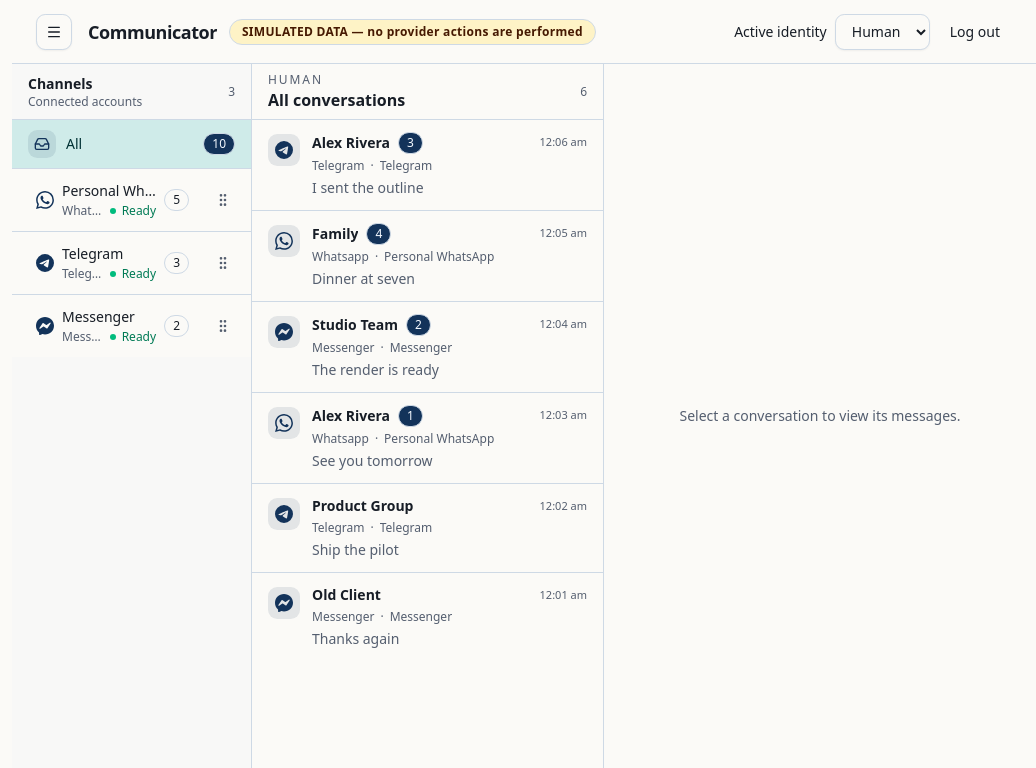
Test: ConversationsShell › closes the old subscription and reconnects after an identity switch
Expected: the heading "All conversations" is shown, [268, 88, 405, 112]
Select "Agent" in the dropdown labelled "Active identity" at point(882, 32), box [835, 14, 930, 50]
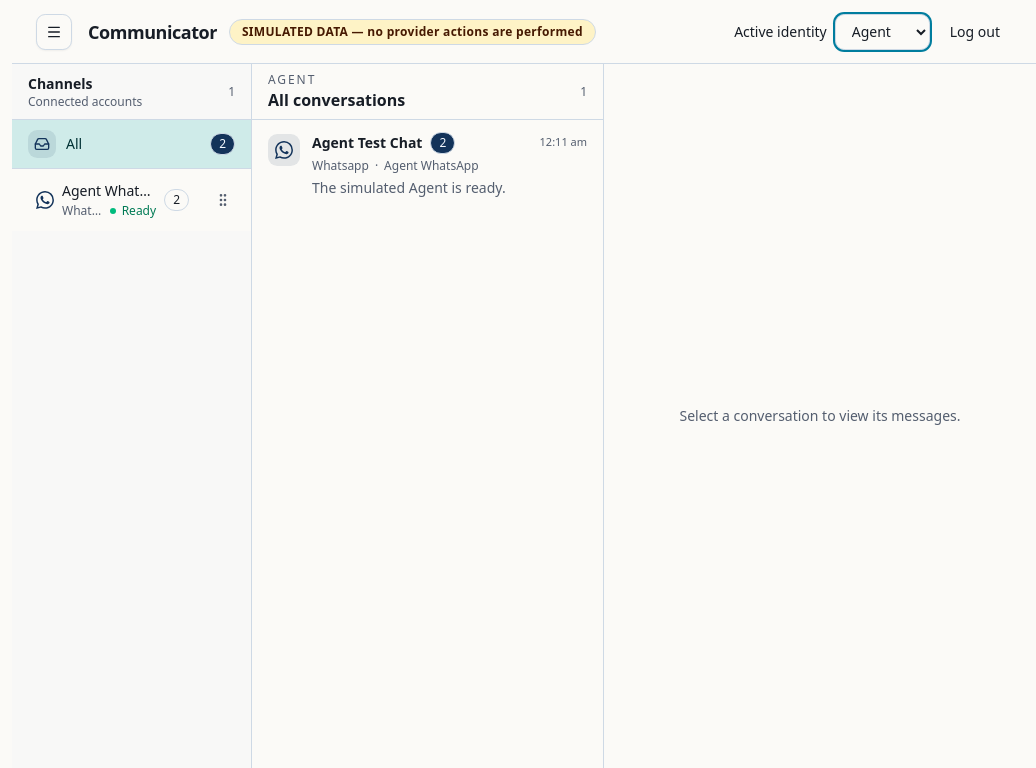
Result: the button with aria-label "Select Agent WhatsApp" is shown at [24, 175, 201, 225]
